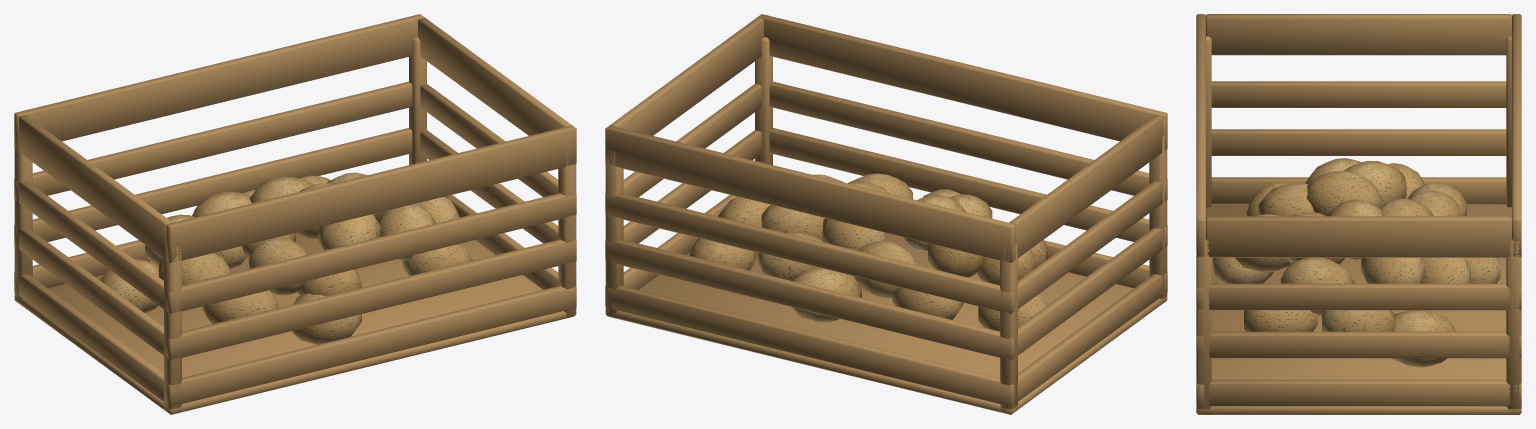
File: harvest_crate_potatoes.glb
3 views of the same model, side by side, from view 1: azimuth 30°, elevation 25°; view 2: azimuth 150°, elevation 25°; view 3: azimuth 270°, elevation 25° (orthographic). The views are drawn at different scales.
Visible parts, largest first — view 1: harvest_crate_potatoes; view 2: harvest_crate_potatoes; view 3: harvest_crate_potatoes.
Part boxes in pixels (x1,y1,x2,y2): harvest_crate_potatoes: (14,14,576,414); harvest_crate_potatoes: (605,14,1167,414); harvest_crate_potatoes: (1196,14,1521,414).
Size of the model in its own units: 0.6 by 0.2661 by 0.4.
2 materials, 1 textured.
